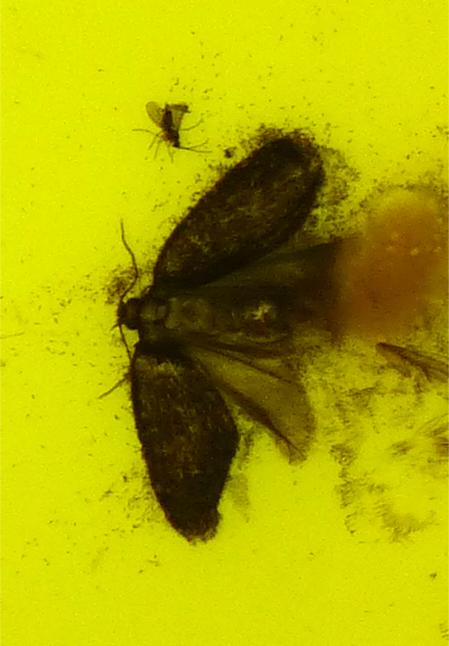Hymenoptera: (143, 100, 193, 155)
Lepidoptera: (100, 121, 349, 546)
